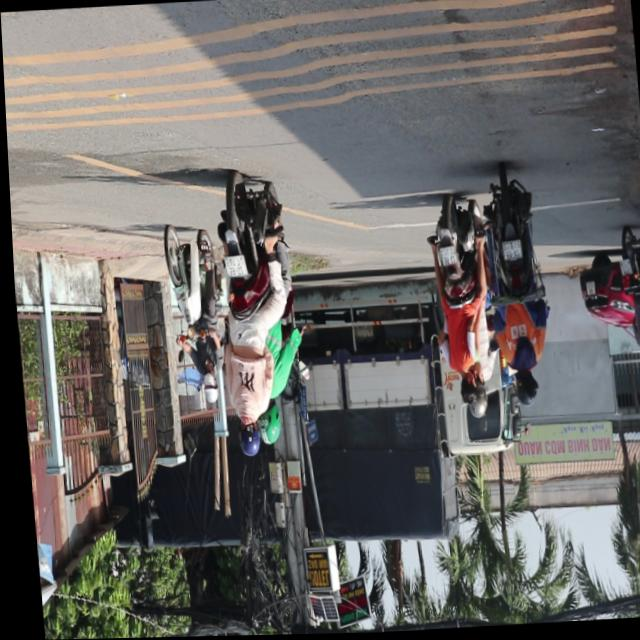helmet: (249, 401, 276, 447), (507, 369, 534, 409), (457, 380, 482, 422), (230, 418, 254, 458), (195, 371, 213, 404)
licenseplate: (203, 171, 305, 460), (476, 166, 551, 411), (418, 194, 497, 422), (155, 222, 223, 409)
motorcyclist: (451, 372, 469, 409)
nohelmet: (219, 256, 243, 277), (498, 242, 518, 264), (434, 248, 452, 267)
